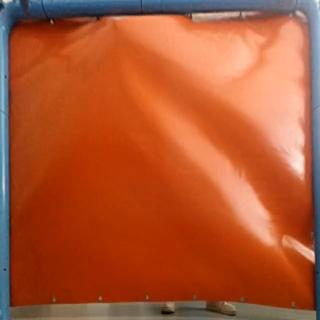Hit-hRxx: (111, 21, 123, 29)
